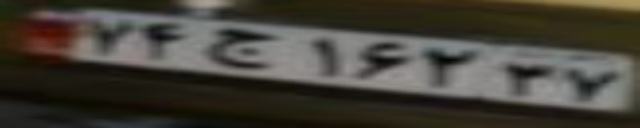1: (312, 37, 338, 78)
2: (425, 47, 475, 87), (90, 18, 128, 58)
3: (503, 61, 552, 96)
4: (139, 22, 186, 60)
6: (355, 39, 403, 79)
7: (563, 65, 620, 102)
jim: (206, 29, 275, 69)
